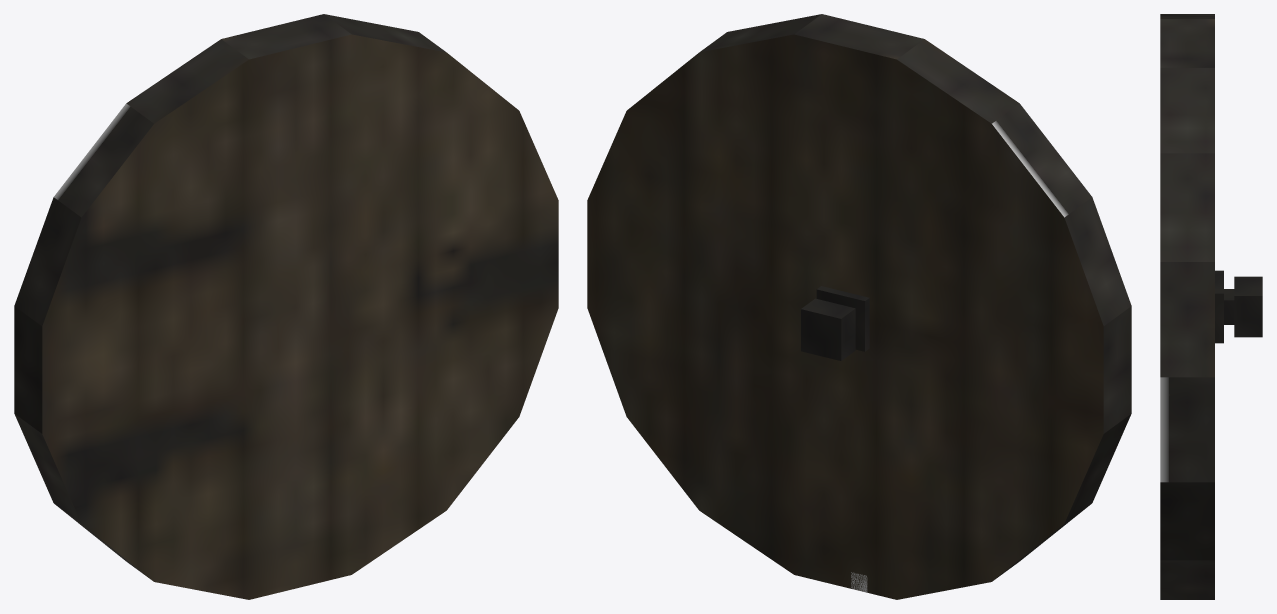
The model's file is hobbit_door_2x2_wood.obj.
3 views of the same model, side by side, from view 1: azimuth 30°, elevation 25°; view 2: azimuth 150°, elevation 25°; view 3: azimuth 270°, elevation 25° (orthographic). The views are drawn at different scales.
Visible parts, largest first — view 1: cylinder; view 2: cylinder, cube; view 3: cylinder, cube.
Boxes of the visible parts, x1,y1,x2,y2 form: cylinder: (14,14,558,599); cylinder: (587,14,1131,599); cube: (801,286,869,592); cylinder: (1160,14,1214,599); cube: (1215,270,1262,343).
Bounding box in the file's own units: 2 × 2 × 0.3516.
